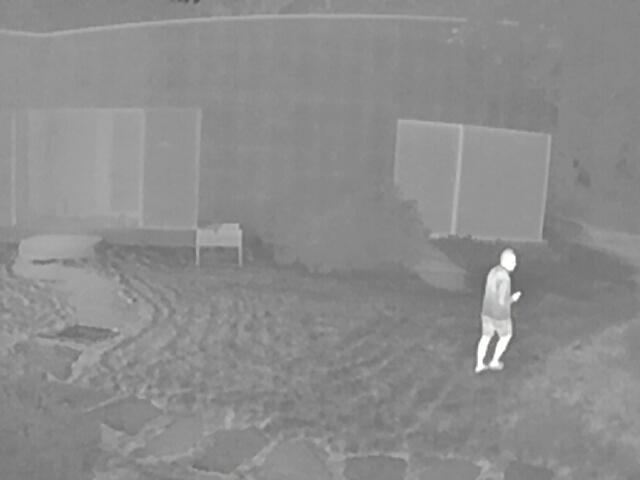person: (474, 246, 522, 372)
